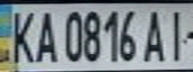0: (60, 7, 84, 63)
1: (100, 6, 121, 62)
6: (118, 7, 142, 63)
8: (81, 6, 103, 63)
A: (139, 6, 169, 63), (30, 7, 60, 64)
I: (160, 6, 193, 62)
K: (3, 7, 39, 65)
